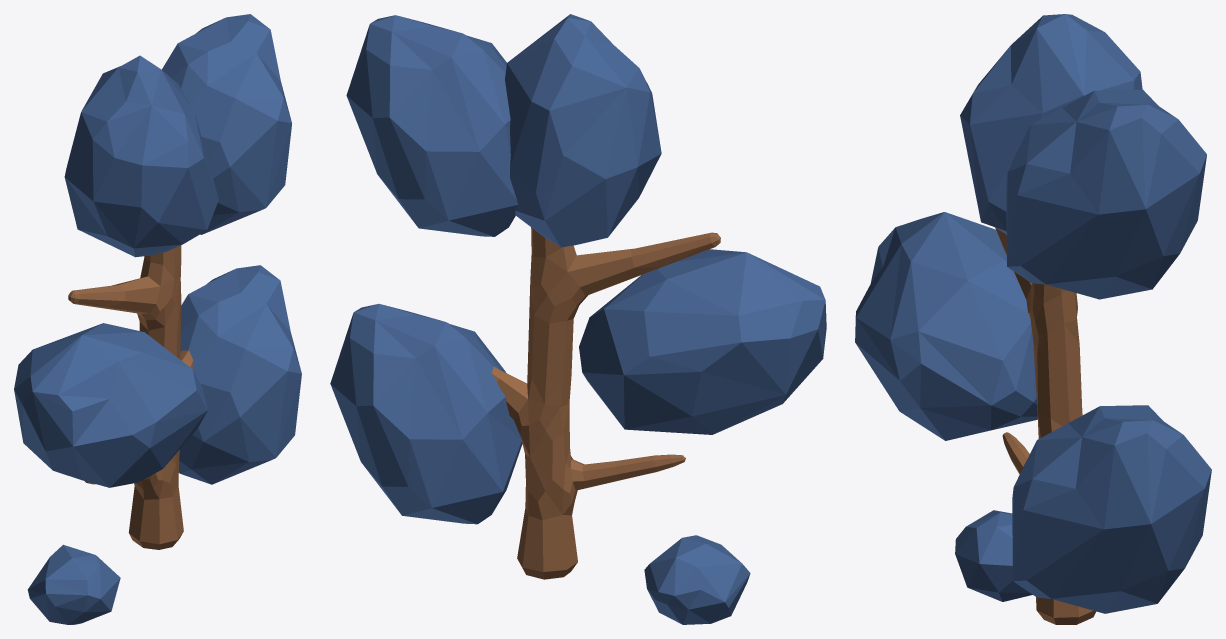
Rendered from tree-winter-complete-11-003.glb.
3 views of the same model, side by side, from view 1: azimuth 30°, elevation 25°; view 2: azimuth 150°, elevation 25°; view 3: azimuth 270°, elevation 25° (orthographic). The views are drawn at different scales.
Parts seen in each view (by area): view 1: TREE 11.005_187, TREE 11.004_188; view 2: TREE 11.005_187, TREE 11.004_188; view 3: TREE 11.005_187, TREE 11.004_188.
Part boxes in pixels (<box>): TREE 11.005_187: <box>14,14,301,624</box>; TREE 11.004_188: <box>68,245,193,549</box>; TREE 11.005_187: <box>330,14,826,624</box>; TREE 11.004_188: <box>491,227,720,579</box>; TREE 11.005_187: <box>855,14,1211,613</box>; TREE 11.004_188: <box>995,228,1096,624</box>.
Size of the model in its own units: 1.25 by 1.85 by 0.9391.
